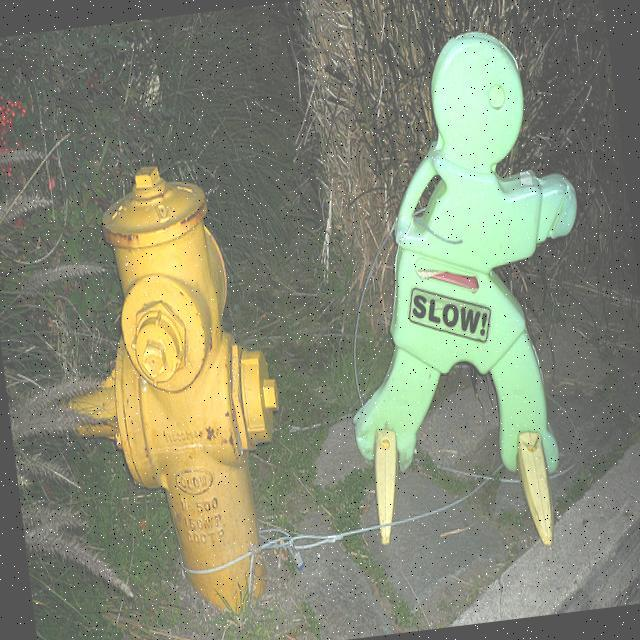fire_hydrant: (0, 153, 300, 632)
